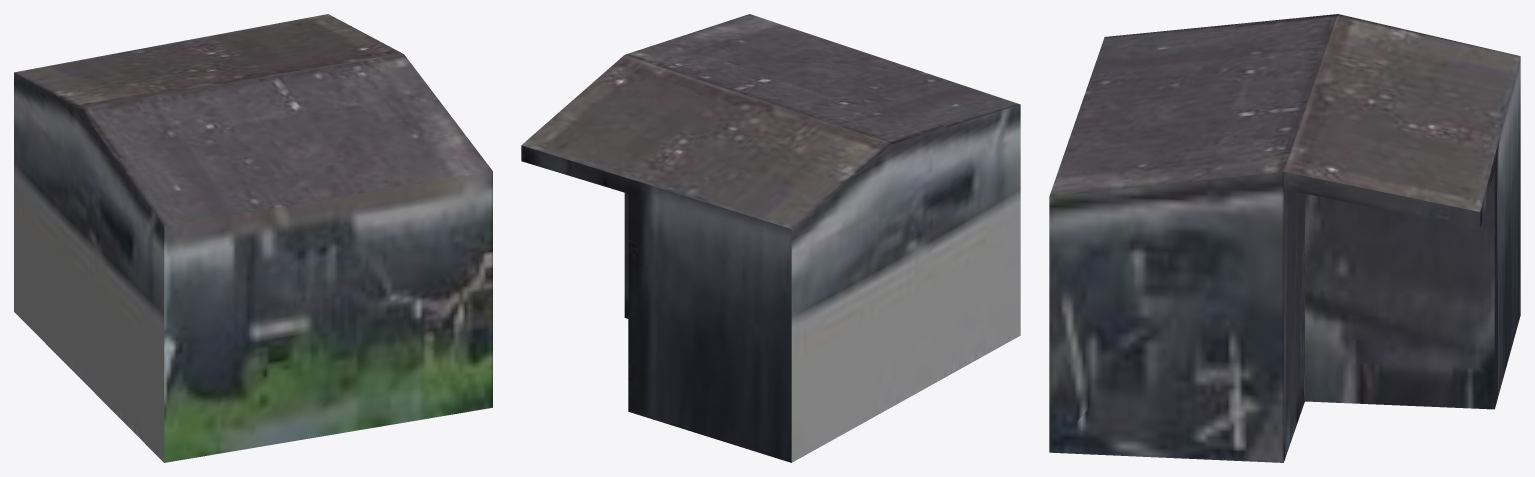
3 views of the same model, side by side, from view 1: azimuth 30°, elevation 25°; view 2: azimuth 150°, elevation 25°; view 3: azimuth 270°, elevation 25° (orthographic). The views are drawn at different scales.
Parts seen in each view (by area): view 1: B281634040101062A0; view 2: B281634040101062A0; view 3: B281634040101062A0.
Boxes of the visible parts, box(x1,y1,x2,y2) form: B281634040101062A0: box(14, 14, 492, 462); B281634040101062A0: box(521, 14, 1020, 462); B281634040101062A0: box(1049, 14, 1520, 462).
Size of the model in its own units: 5.98 by 4.56 by 6.68.
Materials: 1 (1 with a texture image).
